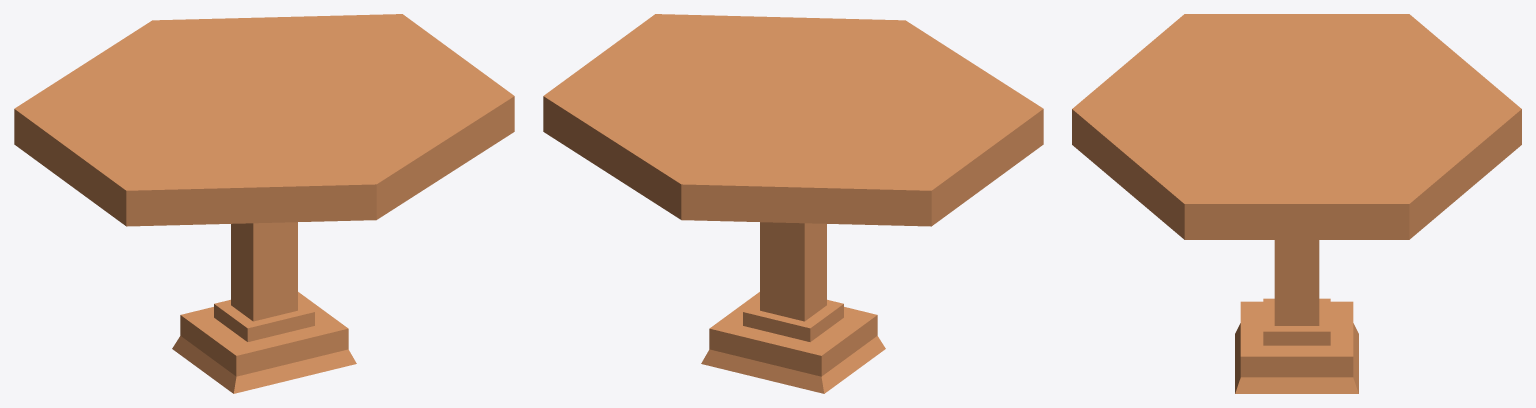
The model's file is furn-table-round-large.glb.
3 renders of one model, left to right at view 1: azimuth 30°, elevation 25°; view 2: azimuth 150°, elevation 25°; view 3: azimuth 270°, elevation 25°, orthographic.
Visible parts, largest first — view 1: tableRound; view 2: tableRound; view 3: tableRound.
Part boxes in pixels (<box>): tableRound: <box>14,14,514,393</box>; tableRound: <box>543,14,1043,393</box>; tableRound: <box>1072,14,1521,393</box>.
Bounding box in the file's own units: 1.2 × 0.75 × 1.2.
